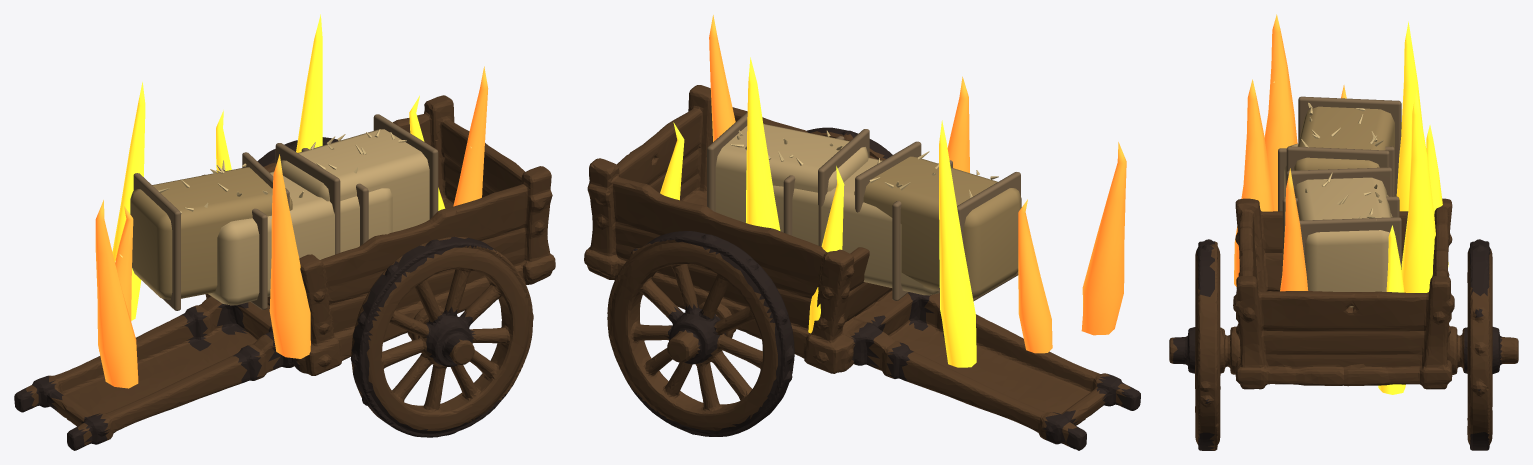
File: carroca_feno_chamas_total.glb
3 renders of one model, left to right at view 1: azimuth 30°, elevation 25°; view 2: azimuth 150°, elevation 25°; view 3: azimuth 270°, elevation 25°, orthographic. The views are drawn at different scales.
Visible parts, largest first — view 1: Carroça original | tmp7zfbmskp.ply, Fardo traseiro, Fardo central, Fardo frontal, Chama total 3, Chama total 1, Chama total 5, Chama total 2, Chama total 4, Fardo traseiro | amarra, Fardo frontal | amarra, Fardo frontal | amarra.001 (+4 smaller); view 2: Carroça original | tmp7zfbmskp.ply, Fardo traseiro, Fardo frontal, Fardo central, Chama total 2, Chama total 1, Chama total 4, Chama total 7, Chama total 5, Chama total 8, Chama total 3, Fardo frontal | amarra (+6 smaller); view 3: Carroça original | tmp7zfbmskp.ply, Fardo frontal, Fardo traseiro, Chama total 4, Chama total 1, Chama total 3, Chama total 2, Chama total 5, Fardo traseiro | amarra, Fardo frontal | amarra.001, Fardo traseiro | amarra.001, Fardo frontal | amarra (+4 smaller).
Boxes of the visible parts, <box> form: Carroça original | tmp7zfbmskp.ply: <box>14,95,555,450</box>; Fardo traseiro: <box>130,167,292,299</box>; Fardo central: <box>208,171,392,305</box>; Fardo frontal: <box>281,129,429,232</box>; Chama total 3: <box>269,154,310,358</box>; Chama total 1: <box>95,200,138,388</box>; Chama total 5: <box>453,66,488,206</box>; Chama total 2: <box>112,82,145,320</box>; Chama total 4: <box>296,14,322,152</box>; Fardo traseiro | amarra: <box>133,173,180,310</box>; Fardo frontal | amarra: <box>275,143,340,254</box>; Fardo frontal | amarra.001: <box>373,114,438,219</box>; Carroça original | tmp7zfbmskp.ply: <box>584,85,1140,450</box>; Fardo traseiro: <box>854,156,1021,298</box>; Fardo frontal: <box>715,124,868,222</box>; Fardo central: <box>773,157,939,295</box>; Chama total 2: <box>939,120,976,367</box>; Chama total 1: <box>1081,142,1126,335</box>; Chama total 4: <box>746,57,780,230</box>; Chama total 7: <box>1018,199,1052,353</box>; Chama total 5: <box>709,15,735,141</box>; Chama total 8: <box>808,166,844,333</box>; Chama total 3: <box>947,76,969,172</box>; Fardo frontal | amarra: <box>818,129,869,246</box>; Carroça original | tmp7zfbmskp.ply: <box>1169,198,1518,450</box>; Fardo frontal: <box>1294,177,1391,307</box>; Fardo traseiro: <box>1293,106,1394,184</box>; Chama total 4: <box>1401,91,1435,292</box>; Chama total 1: <box>1264,14,1297,211</box>; Chama total 3: <box>1234,79,1273,286</box>; Chama total 2: <box>1396,21,1422,211</box>; Chama total 5: <box>1280,168,1308,291</box>; Fardo traseiro | amarra: <box>1298,96,1401,196</box>; Fardo frontal | amarra.001: <box>1299,217,1401,269</box>; Fardo traseiro | amarra.001: <box>1286,146,1389,171</box>; Fardo frontal | amarra: <box>1286,167,1392,196</box>.
Size of the model in its own units: 1.96 by 1.42 by 1.3.
